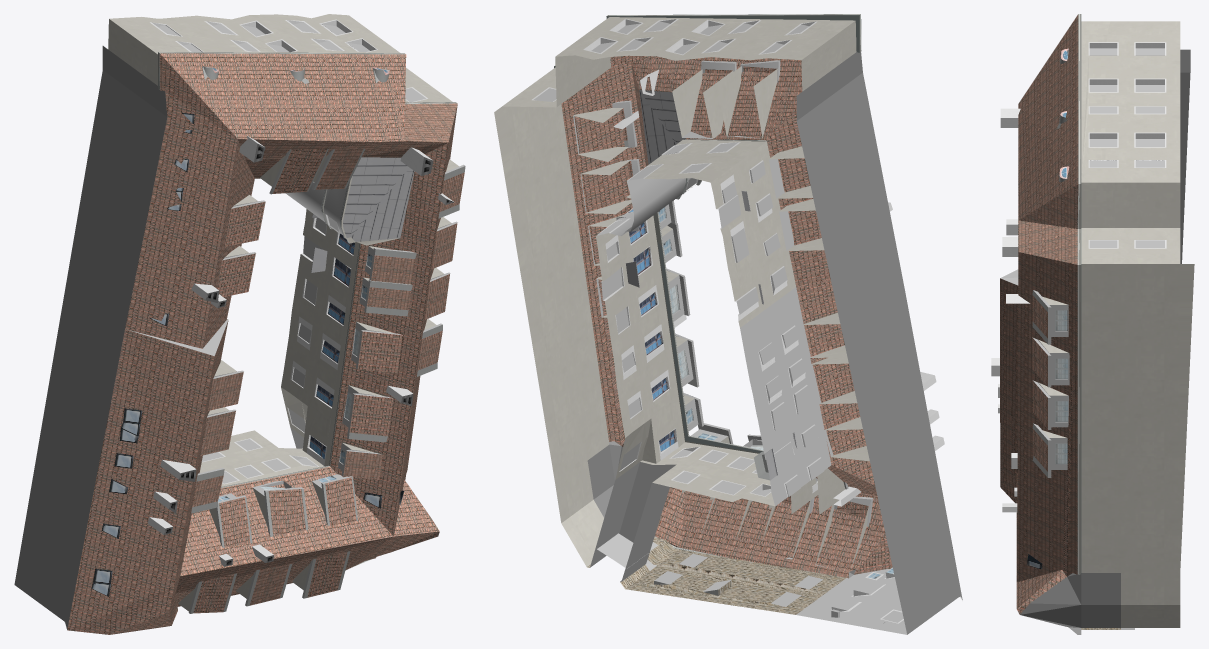
File: Toom-Ryytli_12-origo.obj
The picture shows the model from 3 angles, left to right: view 1: azimuth 30°, elevation 25°; view 2: azimuth 150°, elevation 25°; view 3: azimuth 270°, elevation 25°; orthographic projection. The views are drawn at different scales.
Parts seen in each view (by area): view 1: Toom_Ryytli_12; view 2: Toom_Ryytli_12; view 3: Toom_Ryytli_12.
Part boxes in pixels (left/top/right/bottom): Toom_Ryytli_12: left=14, top=14, right=465, bottom=634; Toom_Ryytli_12: left=494, top=14, right=962, bottom=634; Toom_Ryytli_12: left=991, top=14, right=1194, bottom=634.
Size of the model in its own units: 33.62 by 46 by 16.04.
